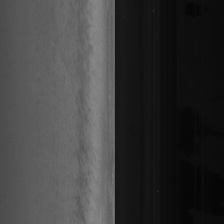silk_spot: (73, 82, 97, 145)
